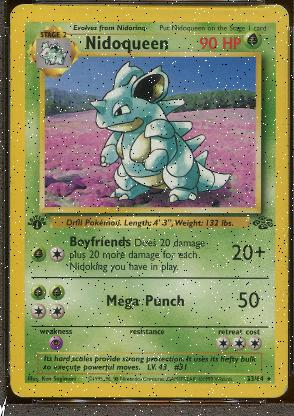Card: (7, 3, 289, 400)
Corner Wear: (12, 388, 28, 398)
Edge Wear: (9, 13, 10, 48)
